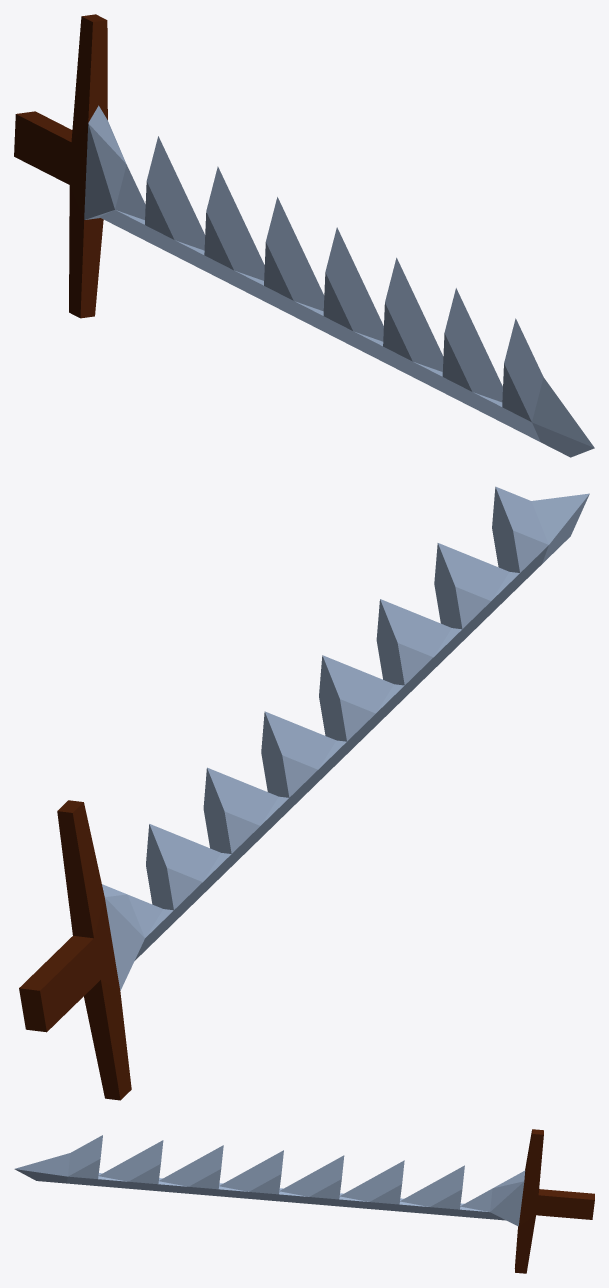
Rendered from serration.glb.
The picture shows the model from 3 angles, top to bottom: view 1: azimuth 30°, elevation 25°; view 2: azimuth 150°, elevation 25°; view 3: azimuth 270°, elevation 25°; orthographic projection. The views are drawn at different scales.
Visible parts, largest first — view 1: Cube; view 2: Cube; view 3: Cube.
Part boxes in pixels (x1,y1,x2,y2): Cube: (14,14,594,457); Cube: (19,486,589,1100); Cube: (14,1129,594,1273).
Bounding box in the file's own units: 0.4345 × 2.26 × 8.04.
Materials: 8 (8 with a texture image).
